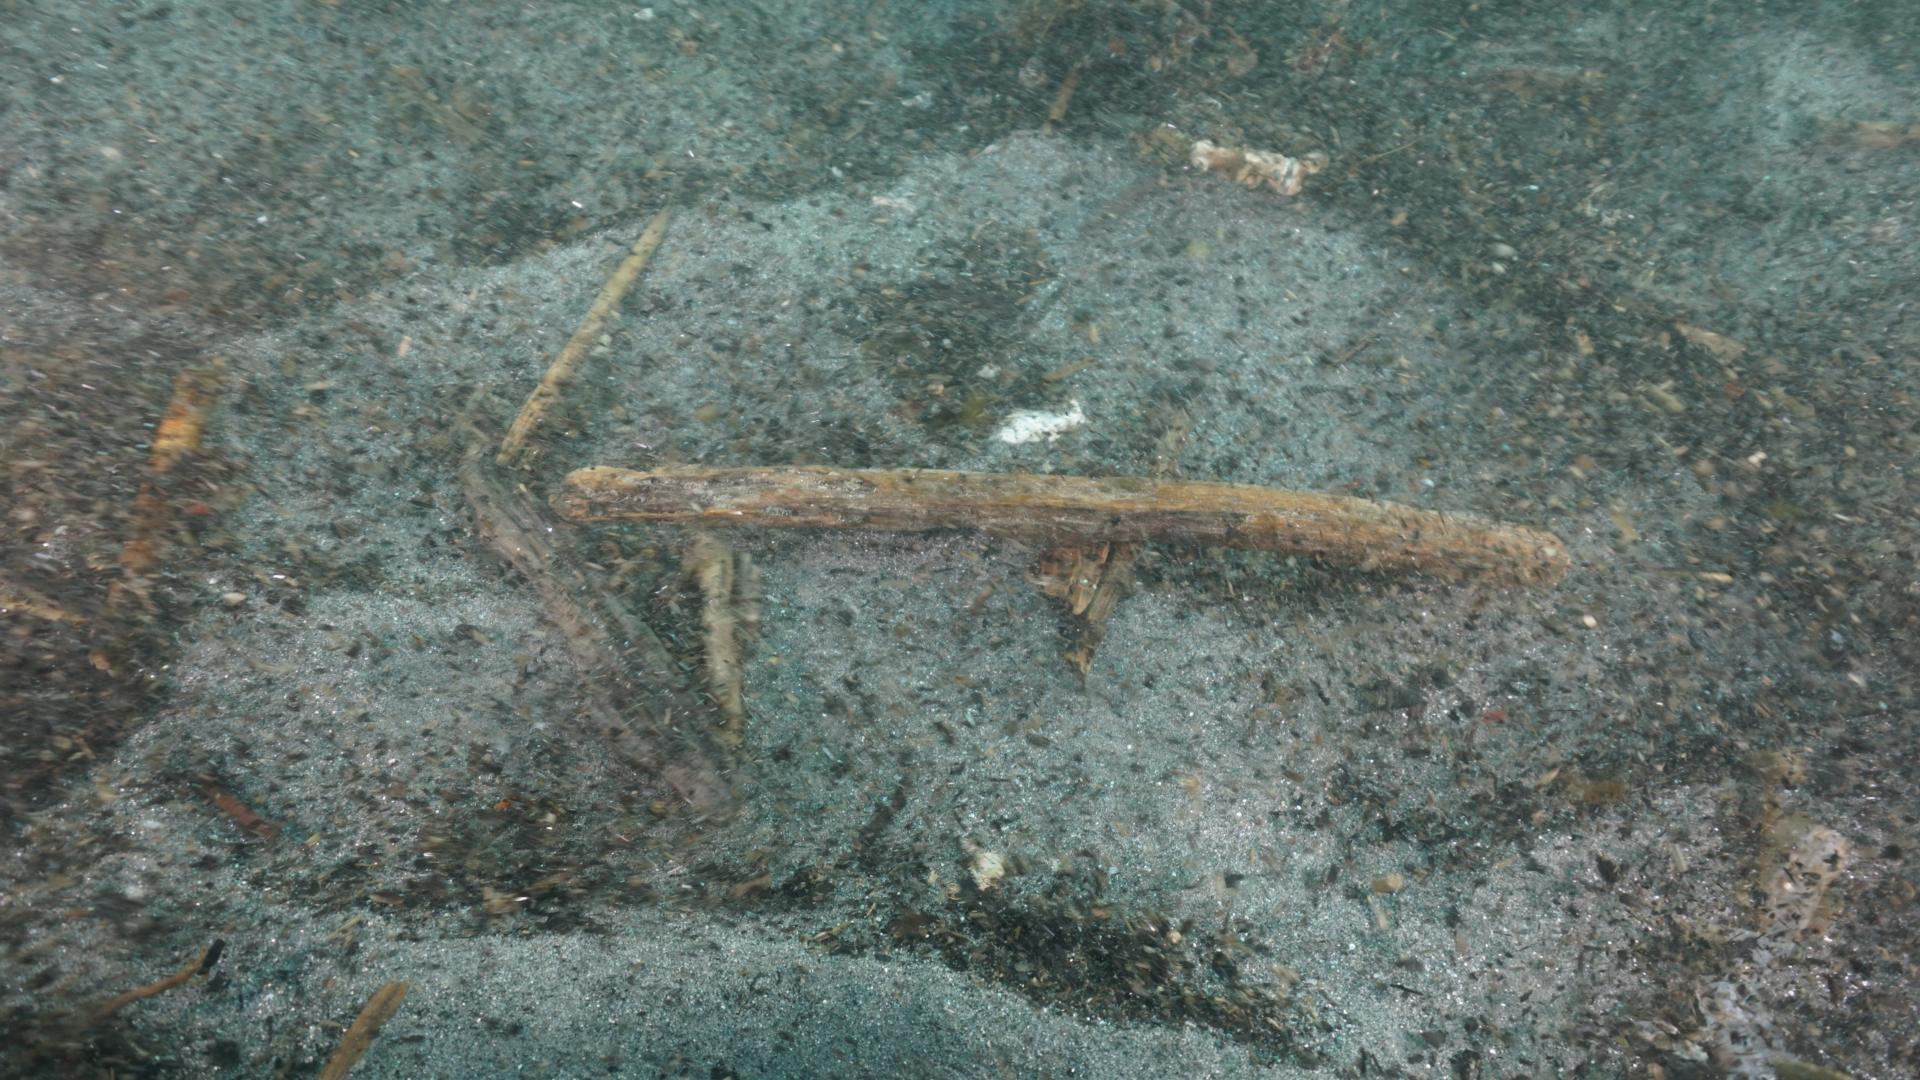wood: (547, 462, 1568, 750), (465, 455, 760, 812), (495, 207, 669, 469)
